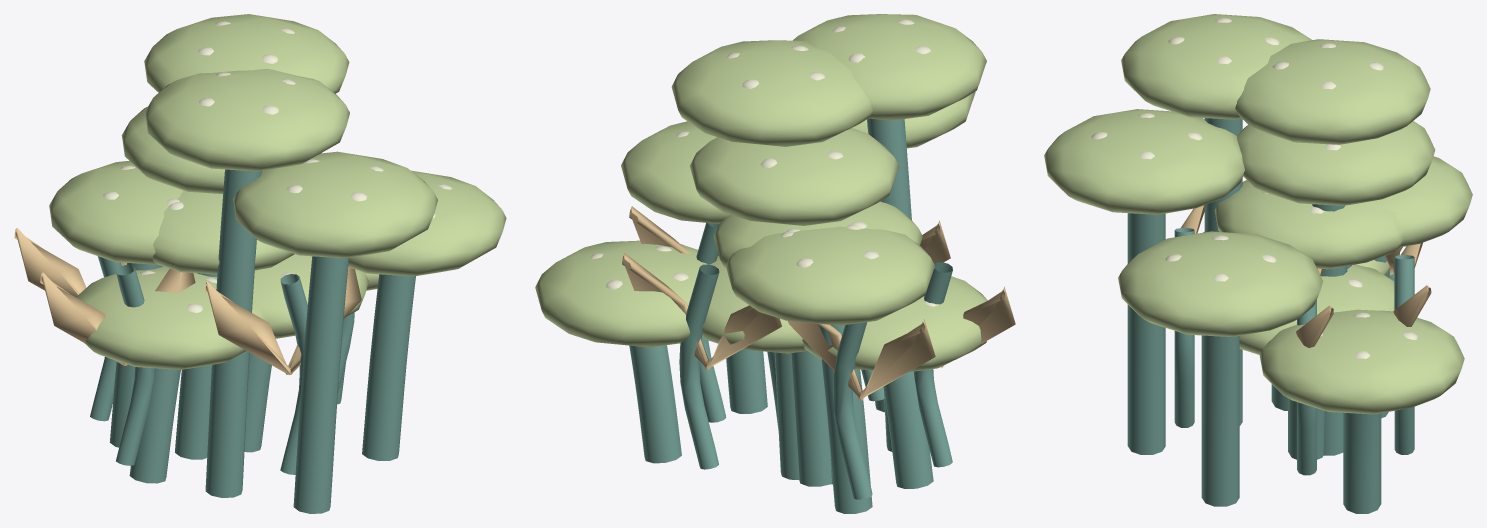
The model's file is bio_spore_fungus_22_far.glb.
The picture shows the model from 3 angles, left to right: view 1: azimuth 30°, elevation 25°; view 2: azimuth 150°, elevation 25°; view 3: azimuth 270°, elevation 25°; orthographic projection. The views are drawn at different scales.
Parts seen in each view (by area): view 1: Thick umbrella cap.007, Thick umbrella cap.002, Thick umbrella cap.004, Thick umbrella cap.003, Curved stipe.002, Thick umbrella cap.001, Curved stipe.007, Thick umbrella cap.005, Curved stipe.005, Thick umbrella cap.009, Secondary fan lobe.004, Thick umbrella cap.006 (+11 smaller); view 2: Thick umbrella cap.003, Thick umbrella cap.001, Thick umbrella cap.006, Thick umbrella cap.007, Thick umbrella cap.008, Thick umbrella cap.005, Thick umbrella cap.004, Curved stipe.008, Curved stipe.006, Branching support.003, Curved stipe.004, Secondary fan lobe.002 (+14 smaller); view 3: Thick umbrella cap.005, Thick umbrella cap.002, Thick umbrella cap.008, Thick umbrella cap.003, Thick umbrella cap.007, Thick umbrella cap.006, Thick umbrella cap.009, Curved stipe.002, Curved stipe.005, Thick umbrella cap.001, Curved stipe.008, Thick umbrella cap (+8 smaller).
Boxes of the visible parts, x1,y1,x2,y2 form: Thick umbrella cap.007: (145, 68, 349, 171); Thick umbrella cap.002: (233, 151, 437, 258); Thick umbrella cap.004: (76, 266, 266, 369); Thick umbrella cap.003: (144, 14, 349, 93); Curved stipe.002: (293, 256, 348, 513); Thick umbrella cap.001: (49, 160, 183, 264); Curved stipe.007: (205, 169, 261, 497); Thick umbrella cap.005: (348, 170, 506, 276); Curved stipe.005: (362, 274, 415, 460); Thick umbrella cap.009: (152, 190, 294, 274); Secondary fan lobe.004: (205, 267, 361, 375); Thick umbrella cap.006: (121, 106, 321, 193); Thick umbrella cap.003: (671, 40, 872, 146); Thick umbrella cap.001: (725, 226, 934, 325); Thick umbrella cap.006: (690, 128, 899, 225); Thick umbrella cap.007: (793, 14, 986, 120); Thick umbrella cap.008: (535, 240, 709, 347); Thick umbrella cap.005: (621, 121, 729, 223); Thick umbrella cap.004: (802, 276, 987, 371); Curved stipe.008: (629, 345, 681, 463); Curved stipe.006: (791, 351, 831, 486); Branching support.003: (679, 264, 719, 469); Curved stipe.004: (883, 371, 933, 488); Secondary fan lobe.002: (788, 319, 935, 400); Thick umbrella cap.005: (1118, 231, 1322, 336); Thick umbrella cap.002: (1044, 109, 1244, 214); Thick umbrella cap.008: (1259, 309, 1464, 414); Thick umbrella cap.003: (1235, 39, 1430, 144); Thick umbrella cap.007: (1121, 14, 1312, 119); Thick umbrella cap.006: (1237, 121, 1435, 205); Thick umbrella cap.009: (1214, 180, 1404, 269); Curved stipe.002: (1127, 213, 1165, 454); Curved stipe.005: (1201, 335, 1239, 506); Thick umbrella cap.001: (1373, 156, 1472, 247); Curved stipe.008: (1343, 412, 1381, 513); Thick umbrella cap: (1239, 264, 1394, 354).
Size of the model in its own units: 2.18 by 1.97 by 1.92.
